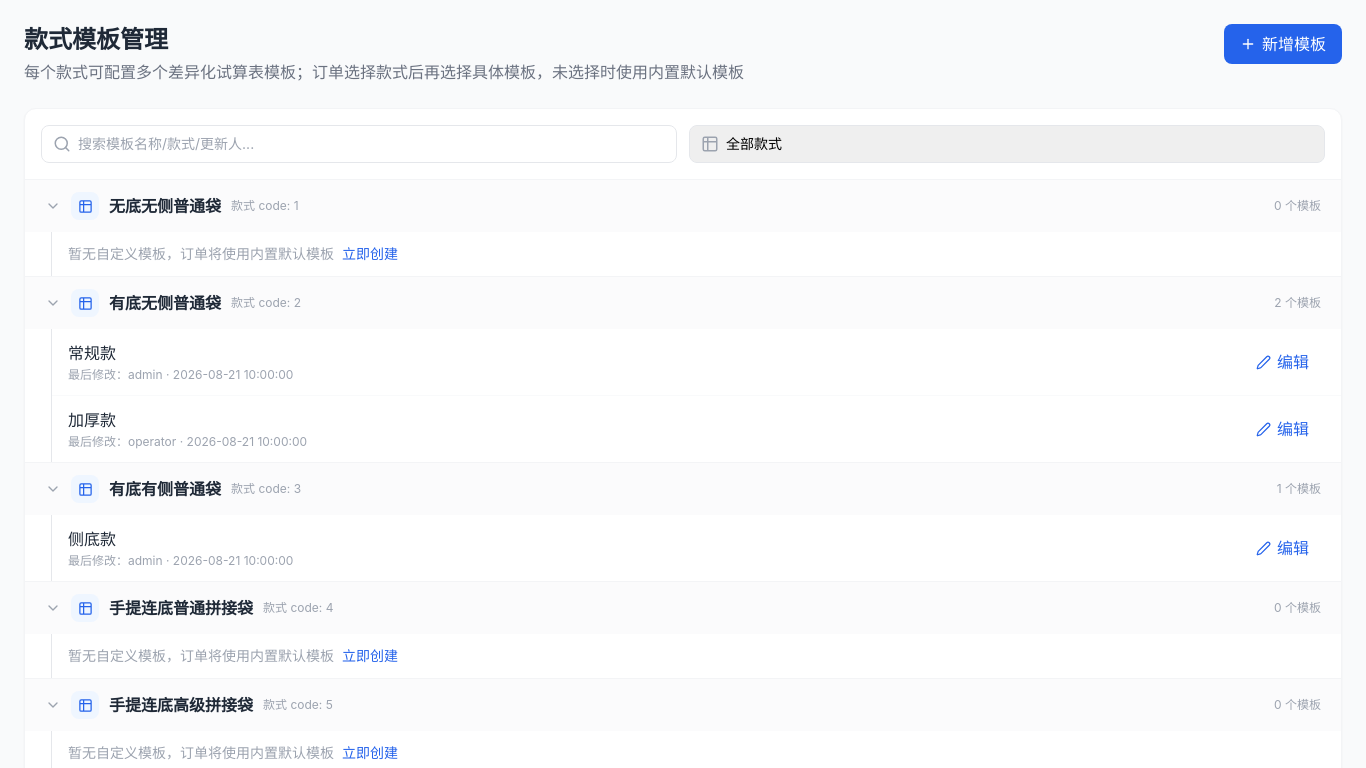
Test case: 款式模板管理页 › 字段查询（与订单列表一致） › 按款式名称搜索：展示该款式全部模板
Expected: the text "常规款" is shown, [68,343,116,363]
In the field with placeholder "搜索模板名称/款式/更新人...": point(359, 144) [41,125,677,163], type "有底有侧"
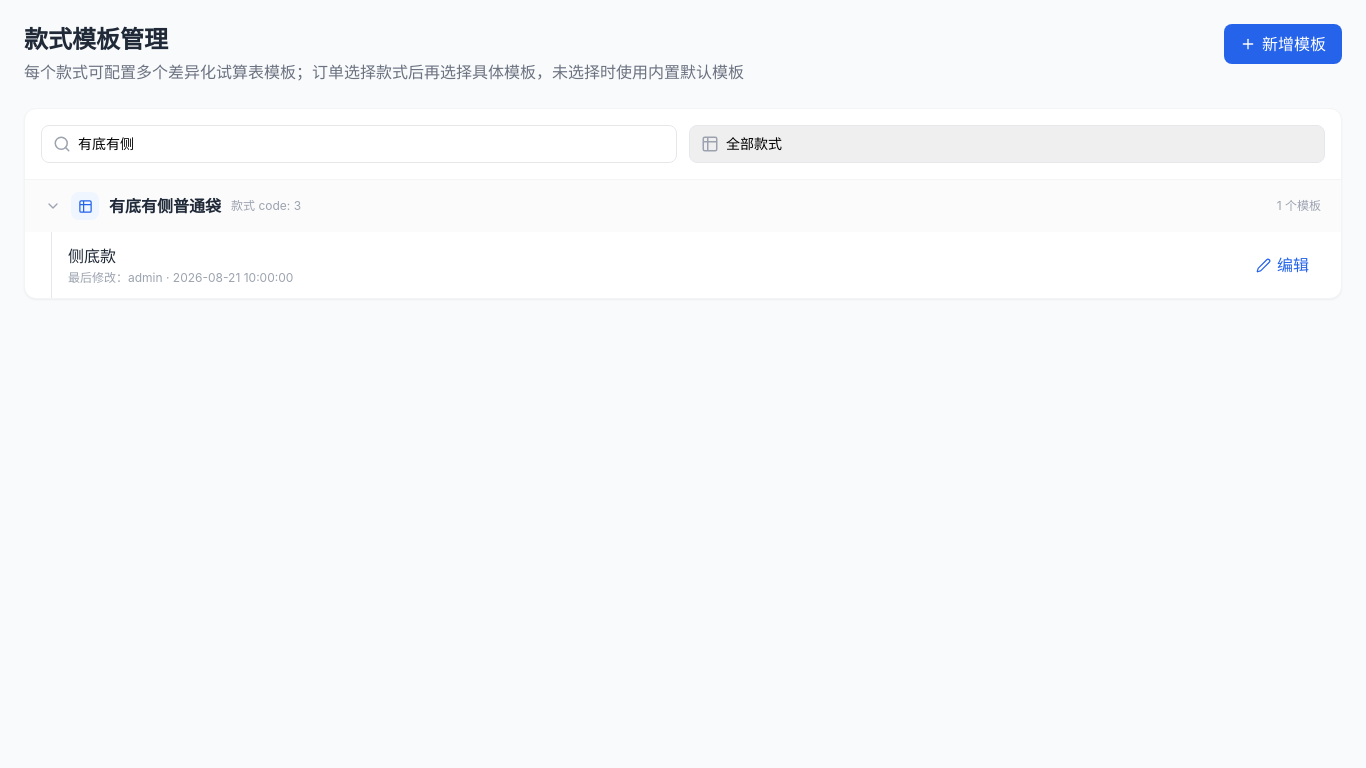
Expected: the text "侧底款" is shown, [68,246,116,266]
Result: the text "常规款" is gone
Result: the text "加厚款" is gone
